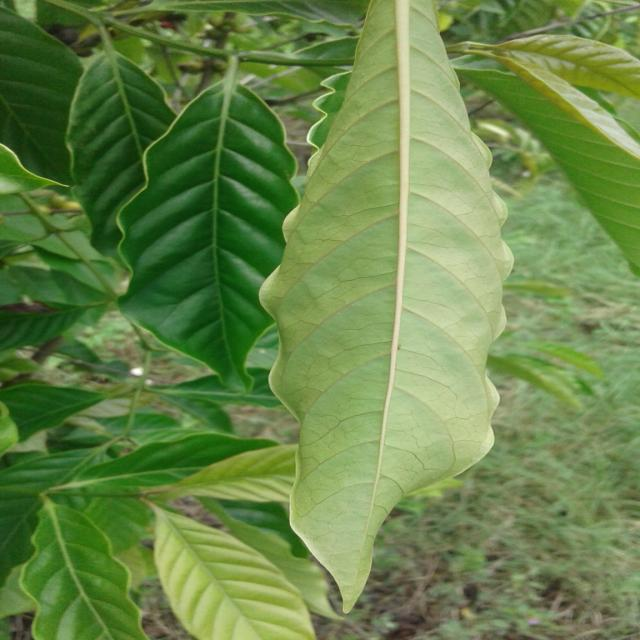Sanas: (257, 0, 514, 618)
